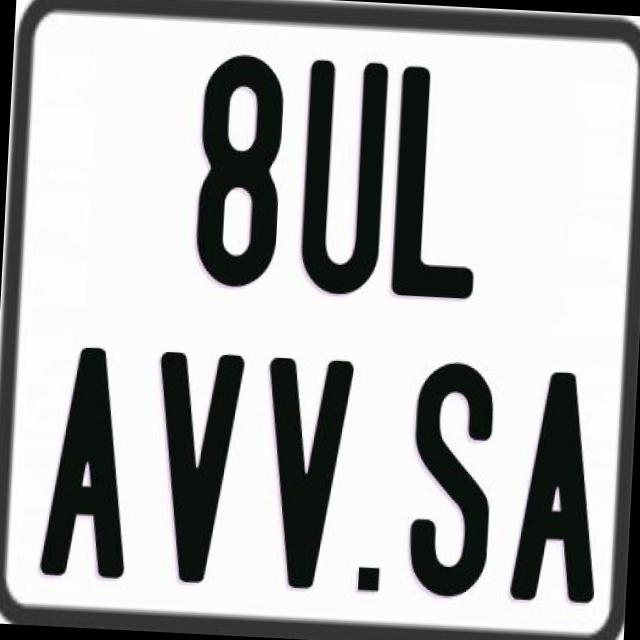8: (192, 48, 284, 294)
A: (38, 341, 142, 577), (506, 369, 604, 605)
L: (388, 63, 487, 299)
S: (407, 360, 501, 601)
U: (297, 58, 388, 296)
V: (146, 348, 250, 582), (256, 352, 358, 586)
